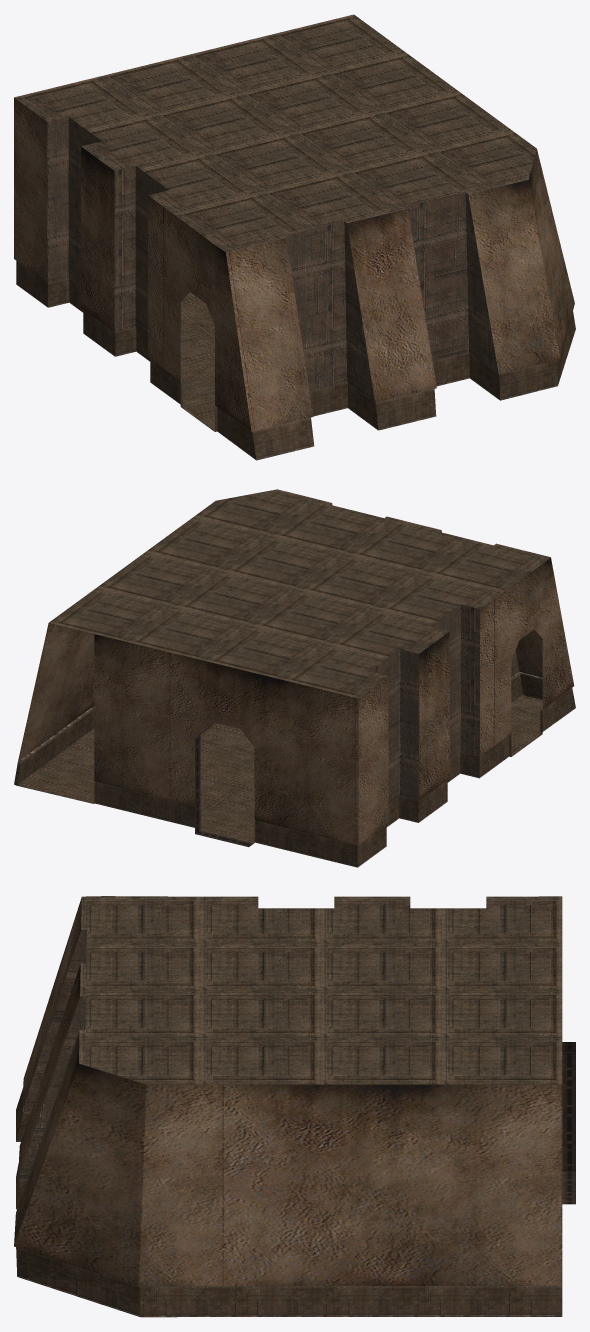
File: thm_tato_fort_tusken_r19_mesh_r19.fbx
3 renders of one model, top to bottom at view 1: azimuth 30°, elevation 25°; view 2: azimuth 150°, elevation 25°; view 3: azimuth 270°, elevation 25°, orthographic. The views are drawn at different scales.
Visible parts, largest first — view 1: mesh_node; view 2: mesh_node; view 3: mesh_node.
Boxes of the visible parts, x1=… form: mesh_node: x1=14, y1=14, x2=575, y2=460; mesh_node: x1=14, y1=489, x2=575, y2=867; mesh_node: x1=14, y1=896, x2=575, y2=1317.
Size of the model in its own units: 9.54 by 4.51 by 10.8.
